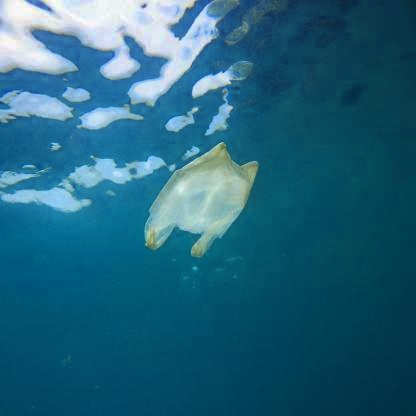pbag: (138, 141, 264, 259)
